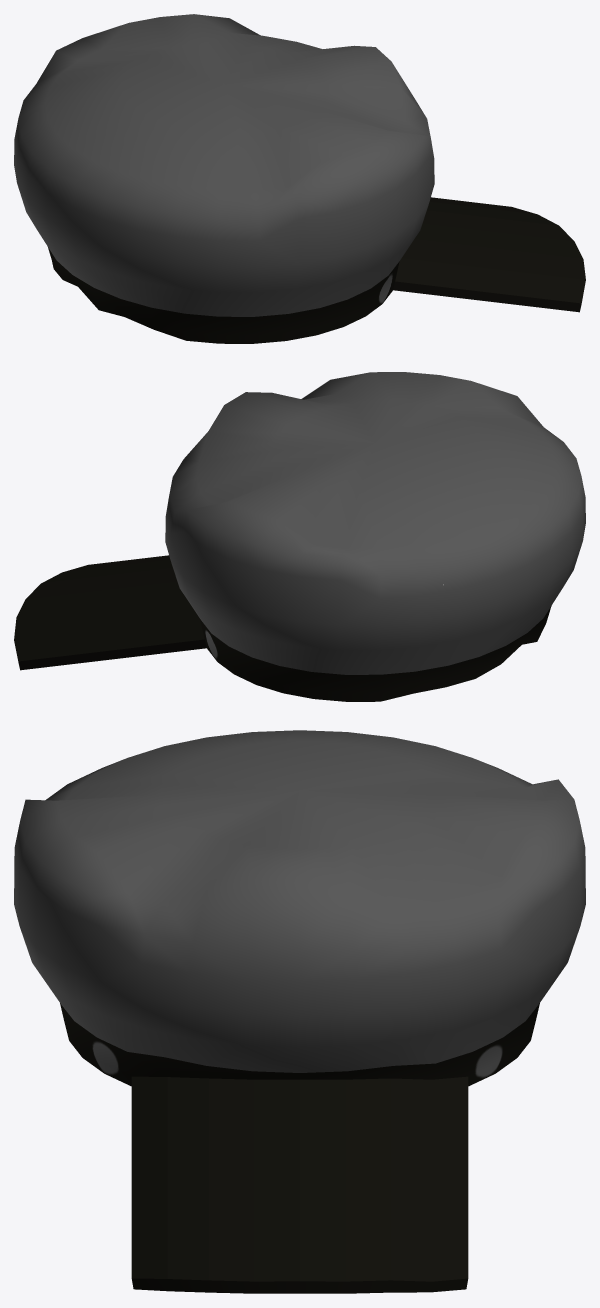
File: Knight_hat.fbx
3 views of the same model, one above another, from view 1: azimuth 30°, elevation 25°; view 2: azimuth 150°, elevation 25°; view 3: azimuth 270°, elevation 25° (orthographic). The views are drawn at different scales.
Parts seen in each view (by area): view 1: Sphere001; view 2: Sphere001; view 3: Sphere001.
Boxes of the visible parts, bbox=[...] form: Sphere001: bbox=[14, 14, 585, 343]; Sphere001: bbox=[14, 372, 585, 701]; Sphere001: bbox=[14, 730, 585, 1293].
Size of the model in its own units: 29.16 by 13.66 by 22.14.
1 material, 1 textured.
